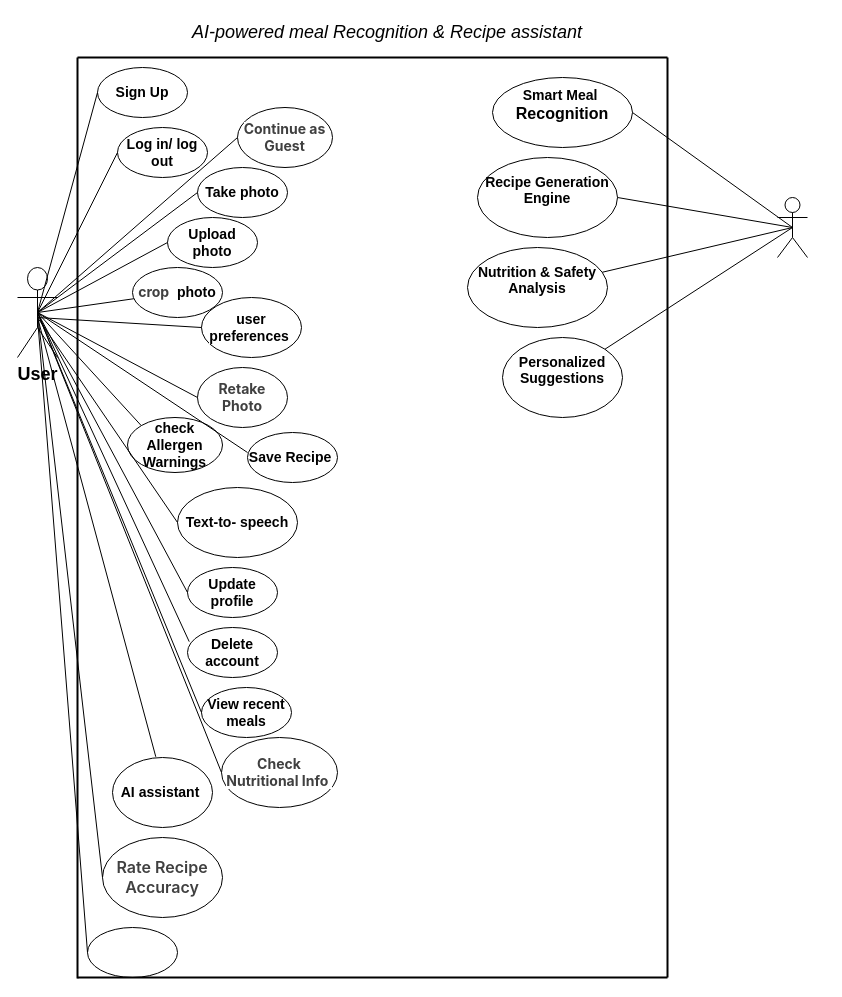
Some shapes in this 842 by 997 pixel diagram are drawn without their labels. The shapes that lost their labels are listed below. From the top down, each one's box as (x1, y1, x2, y2) in pixels, then its label:
(776, 196, 808, 258): System
(86, 926, 178, 978): Feedback
